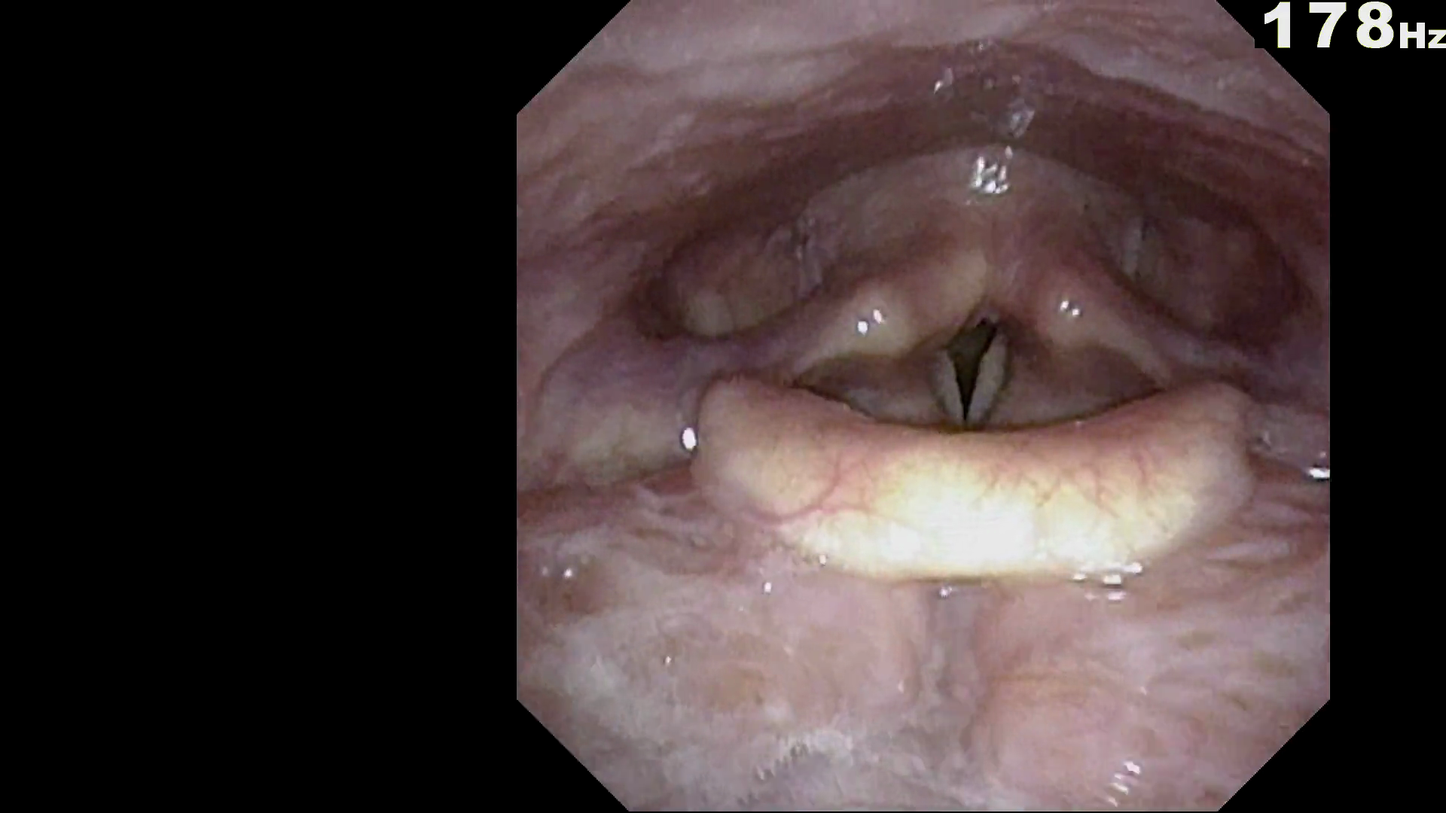epiglottis: (677, 362, 1276, 617)
trachea: (919, 310, 1024, 437)
